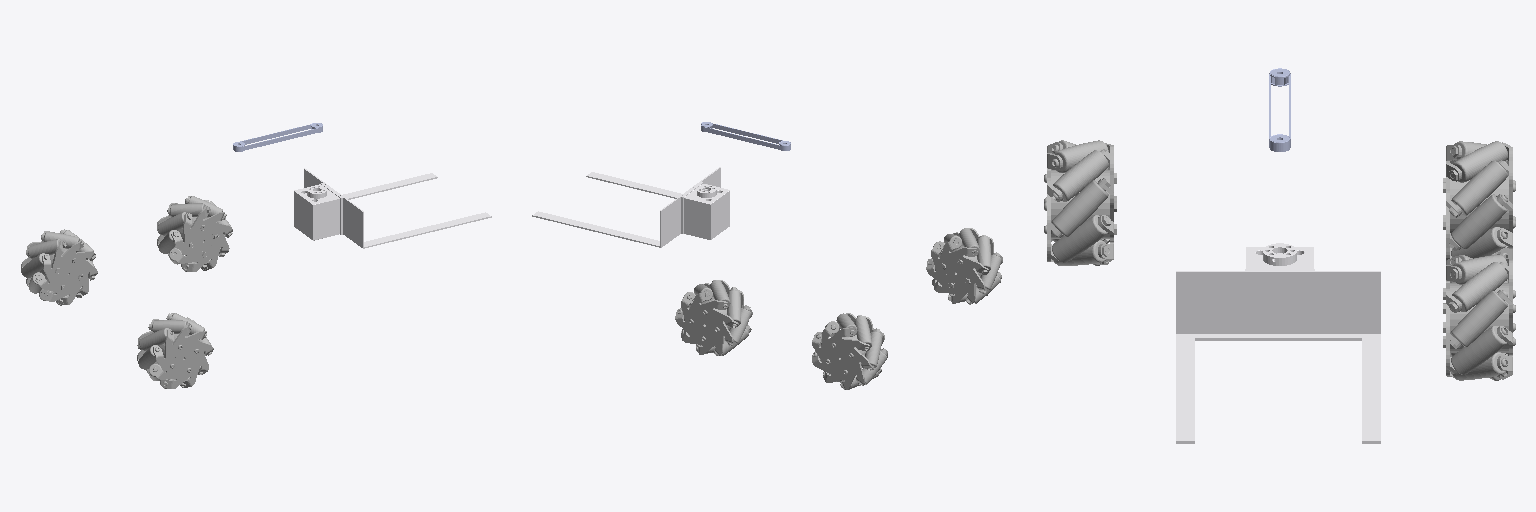
URDF robot description (URDF20):
<?xml version="1.0" encoding="utf-8"?>
<!-- This URDF was automatically created by SolidWorks to URDF Exporter! Originally created by Stephen Brawner (brawner@gmail.com) 
     Commit Version: 1.6.0-4-g7f85cfe  Build Version: 1.6.7995.38578
     For more information, please see http://wiki.ros.org/sw_urdf_exporter -->
<robot
  name="URDF20">
  <link
    name="base_link">
    <inertial>
      <origin
        xyz="0.0454952921615985 -0.000900927329499063 0.0860542688791245"
        rpy="0 0 0" />
      <mass
        value="1.50204935172292" />
      <inertia
        ixx="0.00206168003342103"
        ixy="-1.59117018010418E-08"
        ixz="1.77093405561894E-05"
        iyy="0.0035065468493987"
        iyz="-1.88885377627714E-05"
        izz="0.00404272083711972" />
    </inertial>
    <visual>
      <origin
        xyz="0 0 0"
        rpy="0 0 0" />
      <geometry>
        <mesh
          filename="package://URDF20/meshes/base_link.STL" />
      </geometry>
      <material
        name="">
        <color
          rgba="1 0.905882352941176 0.964705882352941 1" />
      </material>
    </visual>
    <collision>
      <origin
        xyz="0 0 0"
        rpy="0 0 0" />
      <geometry>
        <mesh
          filename="package://URDF20/meshes/base_link.STL" />
      </geometry>
    </collision>
  </link>
  <link
    name="lidar_Link">
    <inertial>
      <origin
        xyz="2.77555756156289E-17 -0.00829730869451539 -0.0212358931355648"
        rpy="0 0 0" />
      <mass
        value="0.146433824458044" />
      <inertia
        ixx="0.00010913430892991"
        ixy="1.50438986236132E-20"
        ixz="-5.85016366241193E-21"
        iyy="6.17383101250328E-05"
        iyz="-1.88823790954E-05"
        izz="0.000125260405967004" />
    </inertial>
    <visual>
      <origin
        xyz="0 0 0"
        rpy="0 0 0" />
      <geometry>
        <mesh
          filename="package://URDF20/meshes/lidar_Link.STL" />
      </geometry>
      <material
        name="">
        <color
          rgba="0.792156862745098 0.819607843137255 0.933333333333333 1" />
      </material>
    </visual>
    <collision>
      <origin
        xyz="0 0 0"
        rpy="0 0 0" />
      <geometry>
        <mesh
          filename="package://URDF20/meshes/lidar_Link.STL" />
      </geometry>
    </collision>
  </link>
  <joint
    name="lidar_joint"
    type="fixed">
    <origin
      xyz="0 0 0.2242"
      rpy="0 0 0" />
    <parent
      link="base_link" />
    <child
      link="lidar_Link" />
    <axis
      xyz="0 0 0" />
  </joint>
  <link
    name="step_Link">
    <inertial>
      <origin
        xyz="0.060865792578273 -3.47071477933836E-06 -0.00399999999999989"
        rpy="0 0 0" />
      <mass
        value="0.0041996196948374" />
      <inertia
        ixx="1.55825022287584E-07"
        ixy="-1.44167485726101E-11"
        ixz="-8.64628042246671E-23"
        iyy="3.3027515683611E-06"
        iyz="-7.24932385022228E-24"
        izz="3.41915364587448E-06" />
    </inertial>
    <visual>
      <origin
        xyz="0 0 0"
        rpy="0 0 0" />
      <geometry>
        <mesh
          filename="package://URDF20/meshes/step_Link.STL" />
      </geometry>
      <material
        name="">
        <color
          rgba="0.792156862745098 0.819607843137255 0.933333333333333 1" />
      </material>
    </visual>
    <collision>
      <origin
        xyz="0 0 0"
        rpy="0 0 0" />
      <geometry>
        <mesh
          filename="package://URDF20/meshes/step_Link.STL" />
      </geometry>
    </collision>
  </link>
  <joint
    name="step_joint"
    type="fixed">
    <origin
      xyz="0.0850000000000005 0 0.1811"
      rpy="0 0 0" />
    <parent
      link="base_link" />
    <child
      link="step_Link" />
    <axis
      xyz="0 0 1" />
  </joint>
  <link
    name="banhrang1_Link">
    <inertial>
      <origin
        xyz="1.38777878078145E-16 1.38777878078145E-17 -0.00400000000000017"
        rpy="0 0 0" />
      <mass
        value="0.00116345796646665" />
      <inertia
        ixx="2.4021754545464E-08"
        ixy="-1.59618115562419E-23"
        ixz="1.29426240314133E-23"
        iyy="2.4021754545464E-08"
        iyz="-5.78303439992141E-24"
        izz="3.47398949842348E-08" />
    </inertial>
    <visual>
      <origin
        xyz="0 0 0"
        rpy="0 0 0" />
      <geometry>
        <mesh
          filename="package://URDF20/meshes/banhrang1_Link.STL" />
      </geometry>
      <material
        name="">
        <color
          rgba="0.792156862745098 0.819607843137255 0.933333333333333 1" />
      </material>
    </visual>
    <collision>
      <origin
        xyz="0 0 0"
        rpy="0 0 0" />
      <geometry>
        <mesh
          filename="package://URDF20/meshes/banhrang1_Link.STL" />
      </geometry>
    </collision>
  </link>
  <joint
    name="banhrang1_joint"
    type="continuous">
    <origin
      xyz="0 0 0"
      rpy="0 0 0" />
    <parent
      link="step_Link" />
    <child
      link="banhrang1_Link" />
    <axis
      xyz="0 0 1" />
  </joint>
  <link
    name="banhrang2_Link">
    <inertial>
      <origin
        xyz="1.10856560374961E-05 1.53458744956009E-05 -0.0768305137670481"
        rpy="0 0 0" />
      <mass
        value="0.00715434820540168" />
      <inertia
        ixx="1.40951366176622E-05"
        ixy="-1.52612901686227E-12"
        ixz="3.54972094816928E-09"
        iyy="1.40950391458847E-05"
        iyz="4.94549534208485E-09"
        izz="7.42877121443652E-08" />
    </inertial>
    <visual>
      <origin
        xyz="0 0 0"
        rpy="0 0 0" />
      <geometry>
        <mesh
          filename="package://URDF20/meshes/banhrang2_Link.STL" />
      </geometry>
      <material
        name="">
        <color
          rgba="0.792156862745098 0.819607843137255 0.933333333333333 1" />
      </material>
    </visual>
    <collision>
      <origin
        xyz="0 0 0"
        rpy="0 0 0" />
      <geometry>
        <mesh
          filename="package://URDF20/meshes/banhrang2_Link.STL" />
      </geometry>
    </collision>
  </link>
  <joint
    name="banhrang2_joint"
    type="continuous">
    <origin
      xyz="0.1214903580365 -1.35453982808703E-05 0"
      rpy="0 0 0" />
    <parent
      link="step_Link" />
    <child
      link="banhrang2_Link" />
    <axis
      xyz="0 0 1" />
  </joint>
  <link
    name="can_Link">
    <inertial>
      <origin
        xyz="-0.00274803221280623 0.0121762358469108 -0.00073575646387801"
        rpy="0 0 0" />
      <mass
        value="0.157799980596413" />
      <inertia
        ixx="0.000268473607092226"
        ixy="-1.77105096465507E-05"
        ixz="6.33116813839497E-09"
        iyy="0.000173809400829982"
        iyz="-2.13785042964922E-09"
        izz="0.000175435917332108" />
    </inertial>
    <visual>
      <origin
        xyz="0 0 0"
        rpy="0 0 0" />
      <geometry>
        <mesh
          filename="package://URDF20/meshes/can_Link.STL" />
      </geometry>
      <material
        name="">
        <color
          rgba="0.988235294117647 0.984313725490196 1 1" />
      </material>
    </visual>
    <collision>
      <origin
        xyz="0 0 0"
        rpy="0 0 0" />
      <geometry>
        <mesh
          filename="package://URDF20/meshes/can_Link.STL" />
      </geometry>
    </collision>
  </link>
  <joint
    name="can_joint"
    type="planar">
    <origin
      xyz="0.1483 -0.00091809 -0.12887"
      rpy="1.5708 -1.5708 0" />
    <parent
      link="step_Link" />
    <child
      link="can_Link" />
    <axis
      xyz="1 0 0" />
  </joint>
  <link
    name="banh1_Link">
    <inertial>
      <origin
        xyz="9.99200722162641E-15 0.0262589105773256 -1.95121696577871E-14"
        rpy="0 0 0" />
      <mass
        value="0.25157608748246" />
      <inertia
        ixx="7.34803994722608E-05"
        ixy="1.81568834239946E-16"
        ixz="1.96334627111884E-19"
        iyy="8.26003194411143E-05"
        iyz="2.29176217901292E-16"
        izz="7.34803994721517E-05" />
    </inertial>
    <visual>
      <origin
        xyz="0 0 0"
        rpy="0 0 0" />
      <geometry>
        <mesh
          filename="package://URDF20/meshes/banh1_Link.STL" />
      </geometry>
      <material
        name="">
        <color
          rgba="0.752941176470588 0.752941176470588 0.752941176470588 1" />
      </material>
    </visual>
    <collision>
      <origin
        xyz="0 0 0"
        rpy="0 0 0" />
      <geometry>
        <mesh
          filename="package://URDF20/meshes/banh1_Link.STL" />
      </geometry>
    </collision>
  </link>
  <joint
    name="banh1_joint"
    type="continuous">
    <origin
      xyz="-0.105 -0.18172 -0.0204"
      rpy="0 0 0" />
    <parent
      link="base_link" />
    <child
      link="banh1_Link" />
    <axis
      xyz="0 -1 0" />
  </joint>
  <link
    name="banh2_Link">
    <inertial>
      <origin
        xyz="7.31775751106056E-14 0.0262589105772602 4.00235400377369E-14"
        rpy="0 0 0" />
      <mass
        value="0.251576087482482" />
      <inertia
        ixx="7.3480399476E-05"
        ixy="1.7941498041554E-16"
        ixz="1.42473141309666E-16"
        iyy="8.26003194456624E-05"
        iyz="-3.12249407662054E-16"
        izz="7.34803994761819E-05" />
    </inertial>
    <visual>
      <origin
        xyz="0 0 0"
        rpy="0 0 0" />
      <geometry>
        <mesh
          filename="package://URDF20/meshes/banh2_Link.STL" />
      </geometry>
      <material
        name="">
        <color
          rgba="0.752941176470588 0.752941176470588 0.752941176470588 1" />
      </material>
    </visual>
    <collision>
      <origin
        xyz="0 0 0"
        rpy="0 0 0" />
      <geometry>
        <mesh
          filename="package://URDF20/meshes/banh2_Link.STL" />
      </geometry>
    </collision>
  </link>
  <joint
    name="banh2_joint"
    type="continuous">
    <origin
      xyz="0.105 -0.18172 -0.0204"
      rpy="0 0 0" />
    <parent
      link="base_link" />
    <child
      link="banh2_Link" />
    <axis
      xyz="0 -1 0" />
  </joint>
  <link
    name="banh3_Link">
    <inertial>
      <origin
        xyz="4.28823643261467E-15 -0.0262589105772693 1.13797860024079E-15"
        rpy="0 0 0" />
      <mass
        value="0.251576087482469" />
      <inertia
        ixx="7.34803994742462E-05"
        ixy="9.80228760336801E-17"
        ixz="2.60942928740293E-16"
        iyy="8.26003194431454E-05"
        iyz="2.72665511162279E-16"
        izz="7.34803994737654E-05" />
    </inertial>
    <visual>
      <origin
        xyz="0 0 0"
        rpy="0 0 0" />
      <geometry>
        <mesh
          filename="package://URDF20/meshes/banh3_Link.STL" />
      </geometry>
      <material
        name="">
        <color
          rgba="0.752941176470588 0.752941176470588 0.752941176470588 1" />
      </material>
    </visual>
    <collision>
      <origin
        xyz="0 0 0"
        rpy="0 0 0" />
      <geometry>
        <mesh
          filename="package://URDF20/meshes/banh3_Link.STL" />
      </geometry>
    </collision>
  </link>
  <joint
    name="banh3_joint"
    type="continuous">
    <origin
      xyz="0.105 0.18172 -0.0204"
      rpy="0 0 0" />
    <parent
      link="base_link" />
    <child
      link="banh3_Link" />
    <axis
      xyz="0 1 0" />
  </joint>
  <link
    name="banh4_Link">
    <inertial>
      <origin
        xyz="-1.33781874467331E-14 -0.0262589105773342 1.34336985979644E-14"
        rpy="0 0 0" />
      <mass
        value="0.251576087482478" />
      <inertia
        ixx="7.34803994760885E-05"
        ixy="1.51994503989562E-16"
        ixz="-9.65699392847902E-17"
        iyy="8.26003194456453E-05"
        iyz="3.16138249385583E-16"
        izz="7.34803994759517E-05" />
    </inertial>
    <visual>
      <origin
        xyz="0 0 0"
        rpy="0 0 0" />
      <geometry>
        <mesh
          filename="package://URDF20/meshes/banh4_Link.STL" />
      </geometry>
      <material
        name="">
        <color
          rgba="0.752941176470588 0.752941176470588 0.752941176470588 1" />
      </material>
    </visual>
    <collision>
      <origin
        xyz="0 0 0"
        rpy="0 0 0" />
      <geometry>
        <mesh
          filename="package://URDF20/meshes/banh4_Link.STL" />
      </geometry>
    </collision>
  </link>
  <joint
    name="banh4_joint"
    type="continuous">
    <origin
      xyz="-0.105000000000018 0.181719615242281 -0.0203999999999891"
      rpy="0 0 0" />
    <parent
      link="base_link" />
    <child
      link="banh4_Link" />
    <axis
      xyz="0 1 0" />
  </joint>
</robot>

--- Facts derived from the render (not from the file) ---
The picture shows the robot from 3 angles, left to right: view 1: azimuth 30°, elevation 25°; view 2: azimuth 150°, elevation 25°; view 3: azimuth 270°, elevation 25°; orthographic projection.
Model URDF20 with 10 links and 9 joints (6 continuous, 2 fixed, 1 planar), rooted at base_link, posed all joints at 0.
Links seen in each view (by area): view 1: can_Link, banh4_Link, banh1_Link, banh3_Link, step_Link; view 2: can_Link, banh3_Link, banh1_Link, banh4_Link, step_Link; view 3: can_Link, banh3_Link, banh1_Link, banh4_Link, step_Link.
Link boxes in pixels (left/top/right/bottom): can_Link: left=294, top=168, right=491, bottom=248; banh4_Link: left=21, top=229, right=97, bottom=305; banh1_Link: left=137, top=313, right=213, bottom=388; banh3_Link: left=157, top=196, right=232, bottom=271; step_Link: left=233, top=123, right=322, bottom=151; can_Link: left=532, top=167, right=729, bottom=247; banh3_Link: left=675, top=280, right=752, bottom=355; banh1_Link: left=926, top=228, right=1002, bottom=304; banh4_Link: left=812, top=313, right=887, bottom=389; step_Link: left=701, top=122, right=790, bottom=150; can_Link: left=1176, top=243, right=1380, bottom=443; banh3_Link: left=1443, top=255, right=1515, bottom=380; banh1_Link: left=1044, top=140, right=1116, bottom=265; banh4_Link: left=1443, top=141, right=1515, bottom=260; step_Link: left=1269, top=68, right=1290, bottom=151.
Bounding box of the posed robot: 0.5861 × 0.3671 × 0.2512 m (x, y, z).
Meshes: 10 distinct files referenced, 6 mesh visuals loaded (6 binary STL); not drawn: 4 (reference not matched to a file when rendering).
